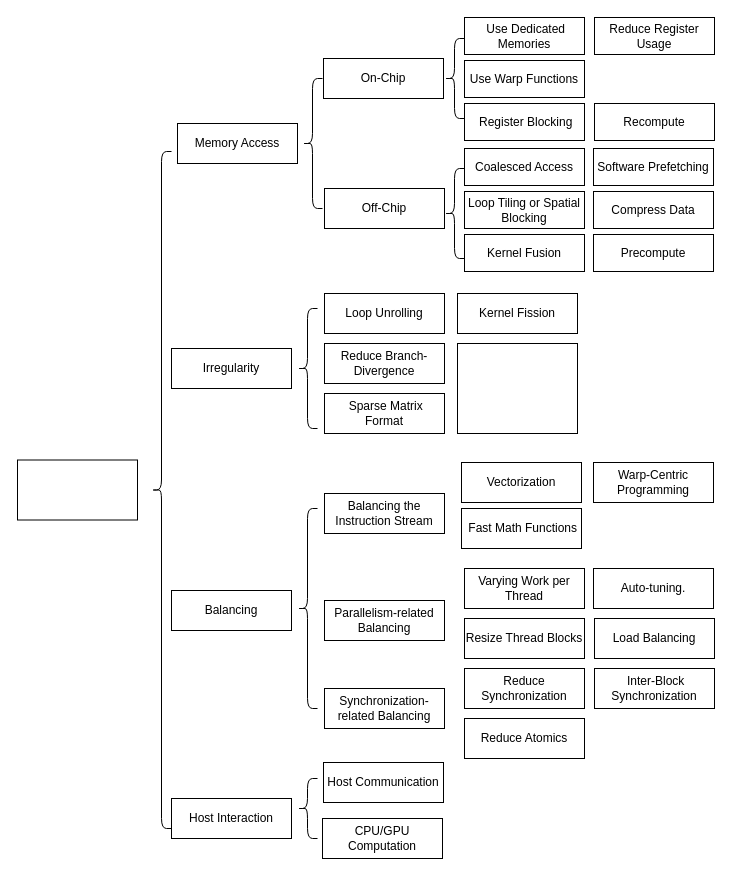
Some shapes in this 732 by 876 pixel diagram are drawn without their labels. Here are the shapes that lost their labels. From the top down, the centre of each, then its label:
At point (517, 388): "Synchronization-related Balancing — Reduce Redundant Work".
At point (77, 489): "GPU OPTIMIZATION TECHNIQUES".
